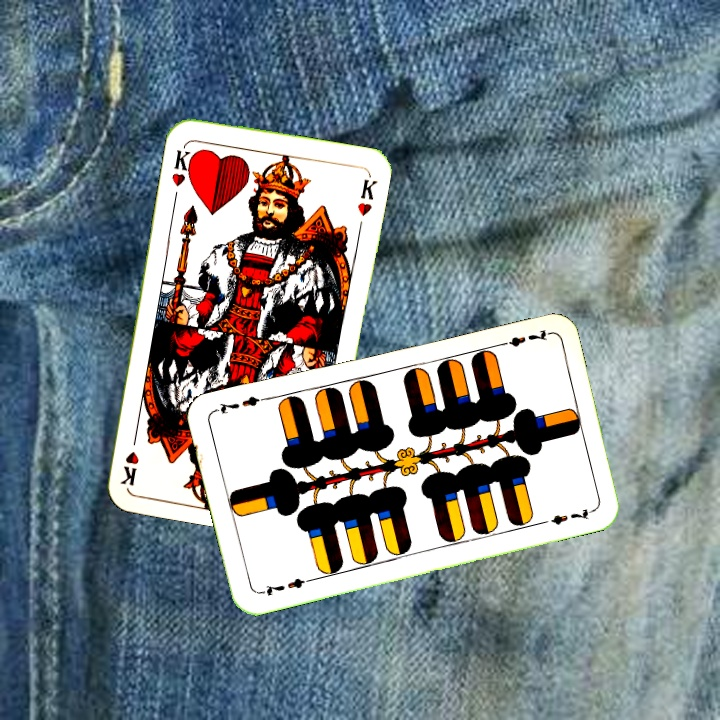E7: (255, 574, 314, 599), (493, 325, 551, 350)
HK: (167, 141, 198, 189)
